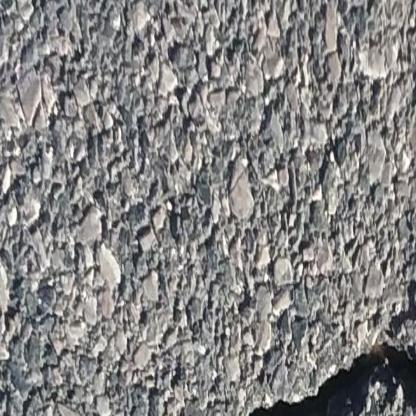Cracks: (218, 341, 416, 416)
